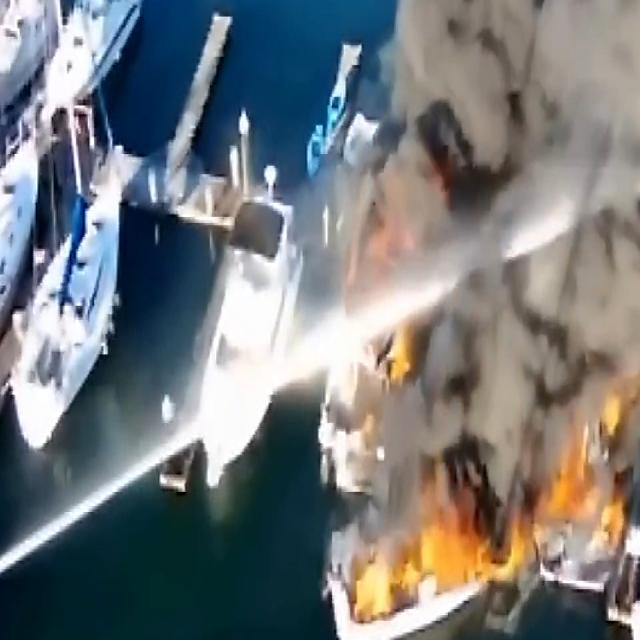fire: (404, 488, 520, 618)
